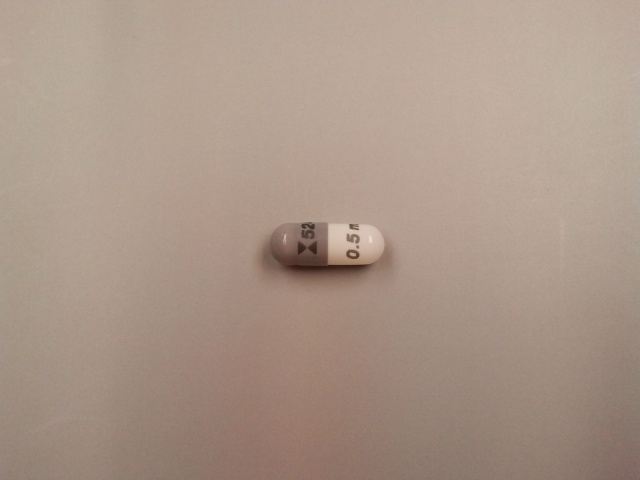capsule: (265, 219, 388, 268)
